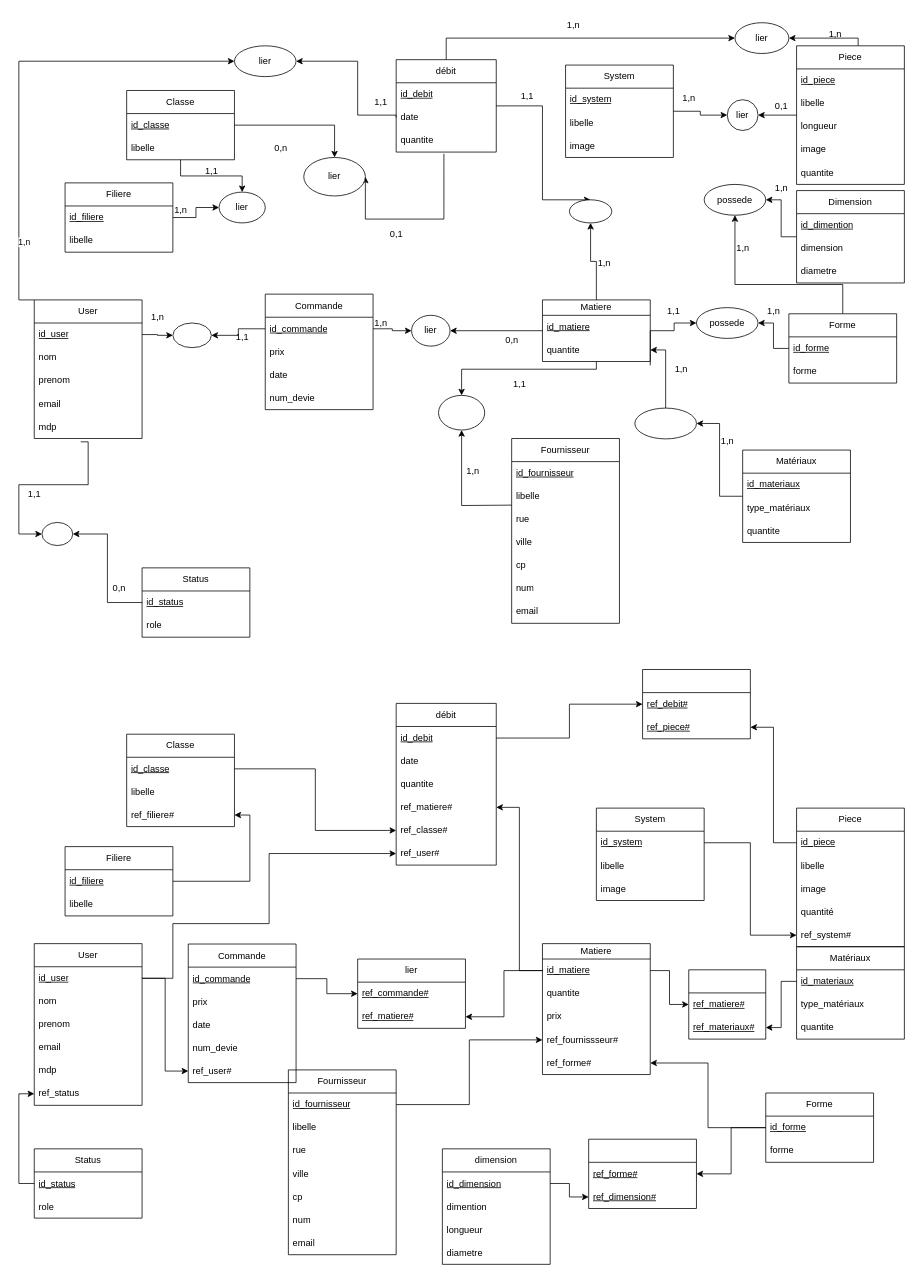
Image size: 918x1277. Some labels were removed from this diagram. The shapes that lost their labels are listed below. From the top down, each one's box as (x1, y1, x2, y2) in pixels, then its label:
(569, 199, 612, 223): prelever
(172, 322, 211, 348): efectuer
(438, 395, 485, 430): appartient prix
(634, 407, 696, 439): fait
(41, 522, 73, 546): être
(642, 669, 750, 739): concerne
(688, 969, 766, 1039): possède
(588, 1138, 696, 1209): decris
